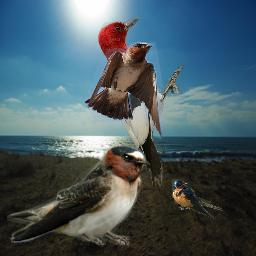Swallow: (7, 141, 153, 248), (85, 42, 162, 139), (172, 179, 223, 218)
Woodpecker: (96, 15, 184, 188)
